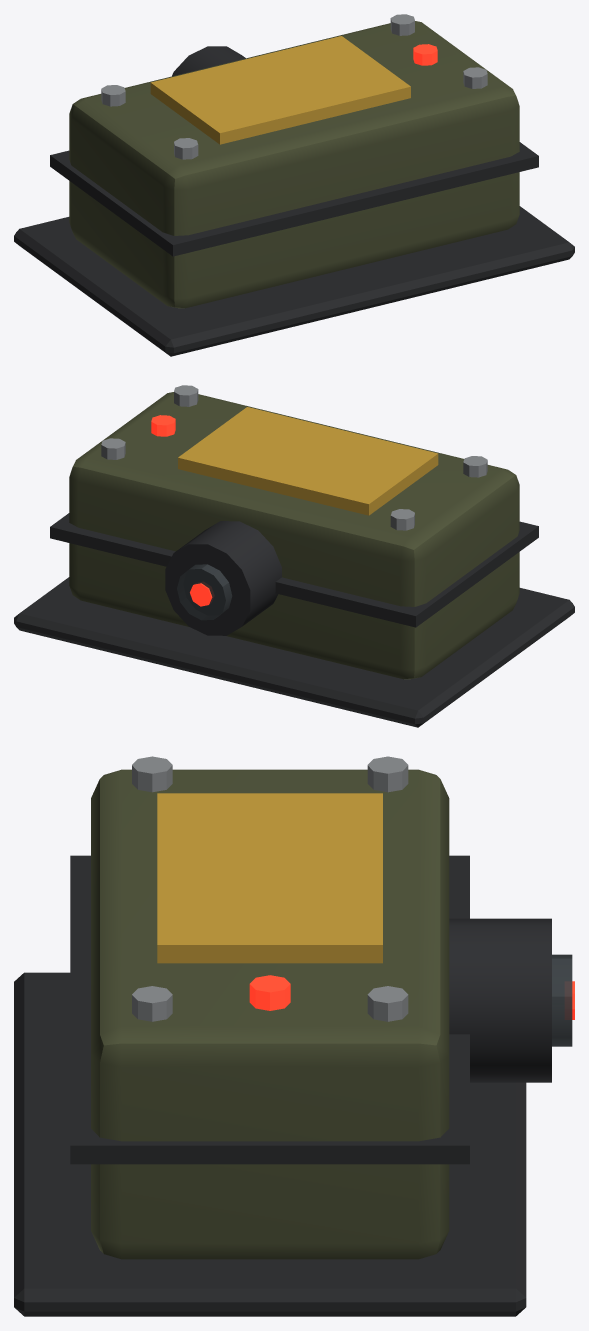
Rendered from prop_deploy_trip_mine.glb.
The picture shows the model from 3 angles, top to bottom: view 1: azimuth 30°, elevation 25°; view 2: azimuth 150°, elevation 25°; view 3: azimuth 270°, elevation 25°; orthographic projection. The views are drawn at different scales.
Parts seen in each view (by area): view 1: Body, Led; view 2: Body, Led; view 3: Body, Led.
Boxes of the visible parts, x1,y1,x2,y2 form: Body: [14, 14, 574, 356]; Led: [413, 44, 437, 65]; Body: [14, 385, 574, 727]; Led: [151, 415, 175, 436]; Body: [14, 756, 574, 1316]; Led: [249, 975, 290, 1010].
Size of the model in its own units: 0.15 by 0.06 by 0.1095.
